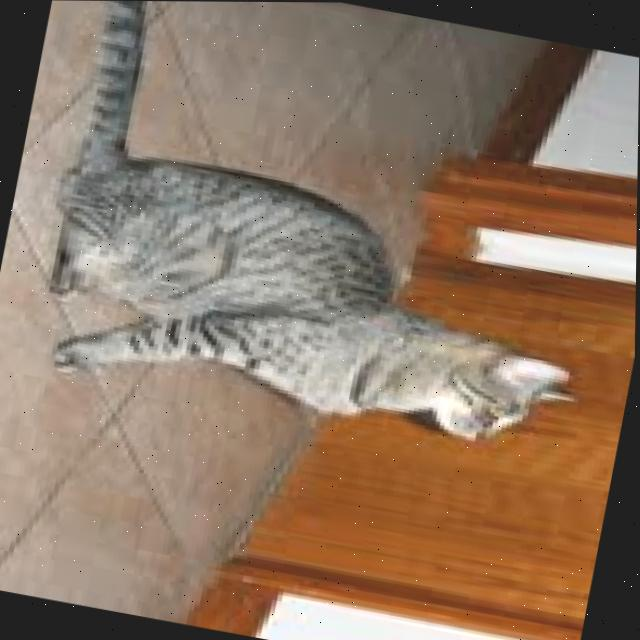Egyptian Mau: (27, 0, 640, 472)
